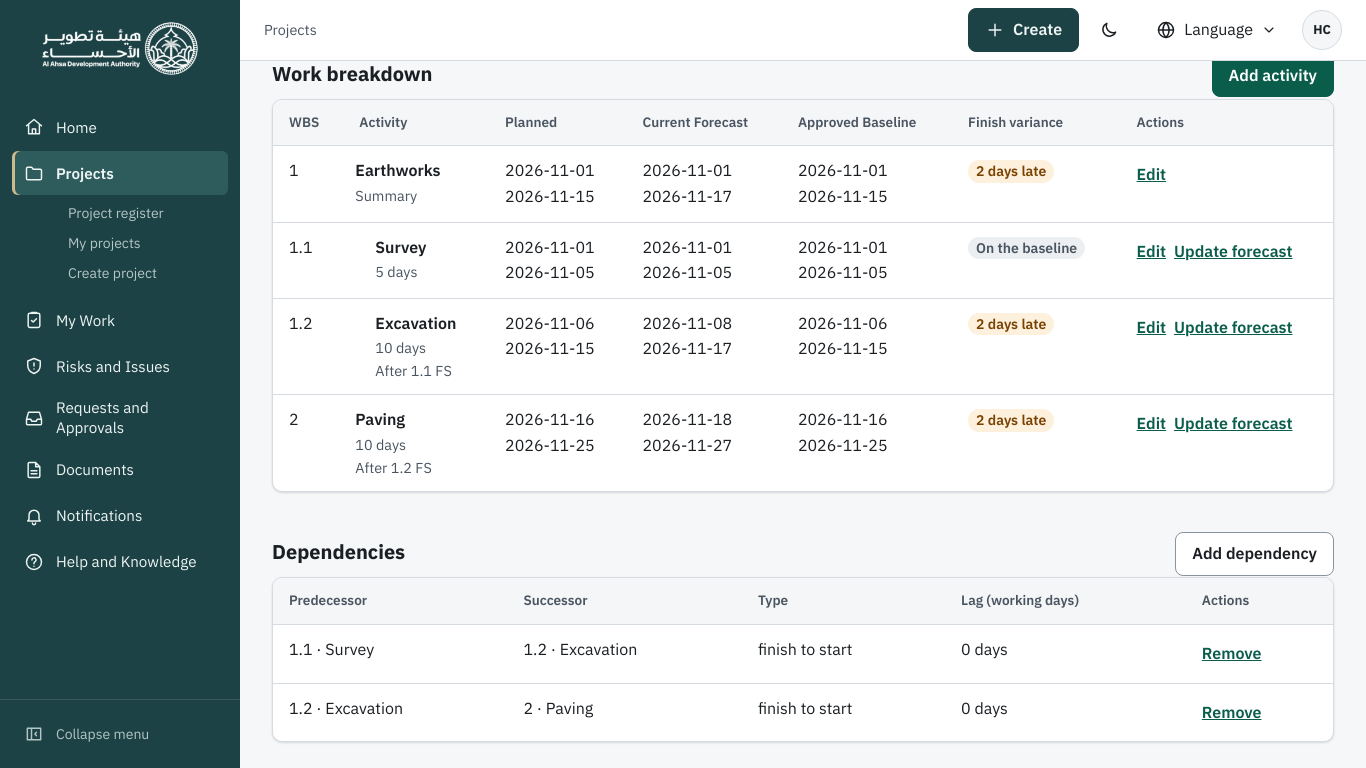
Test: SCR-060 Schedule Manager › a reforecast before the predecessor’s forecast allows is refused on the field and not sent
This screenshot has width=1366, height=768.
(page scrolled)
Click the button "Update forecast" in the row of "2026-11-18" at coordinates (1233, 424), box [1174,407,1292,441]
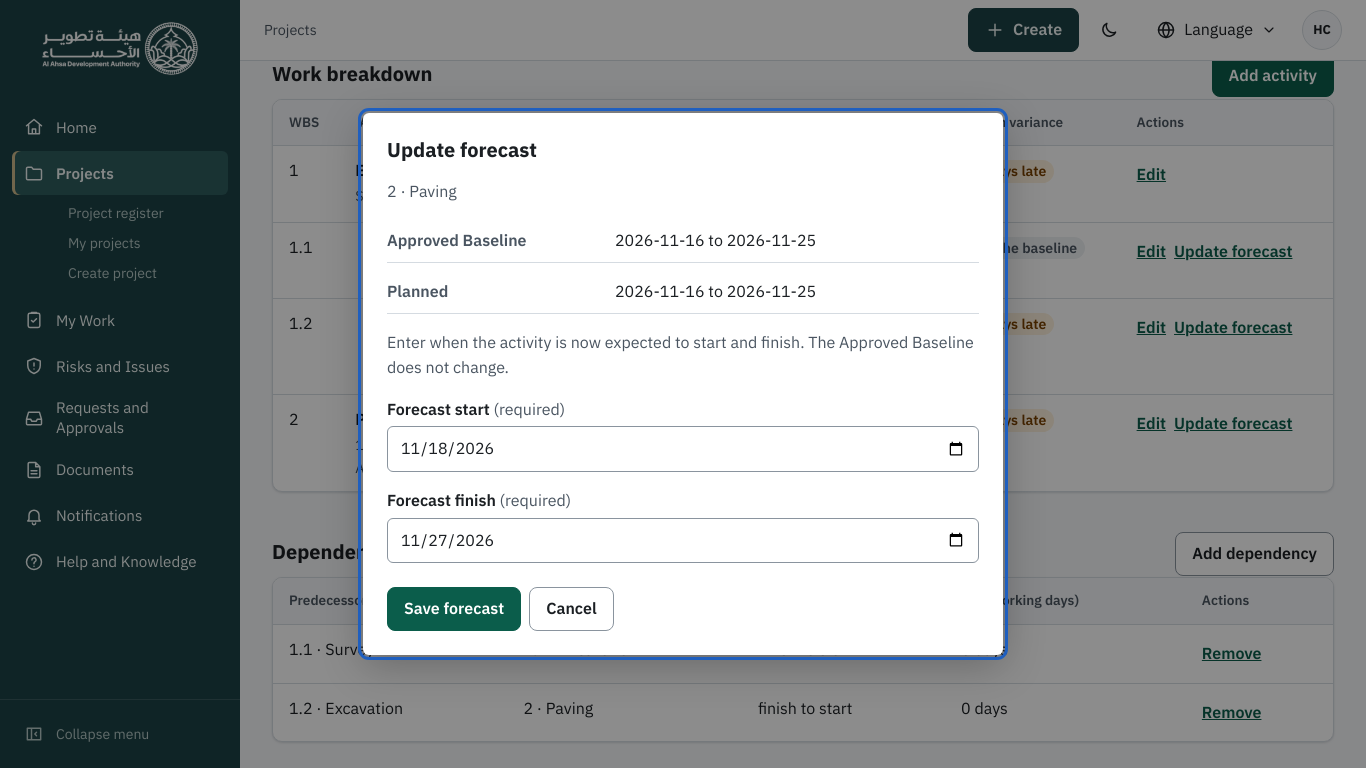
Type "2026-11-15" into the date field labelled "Forecast start (required)" at coordinates (683, 449), box [387,426,979,472]
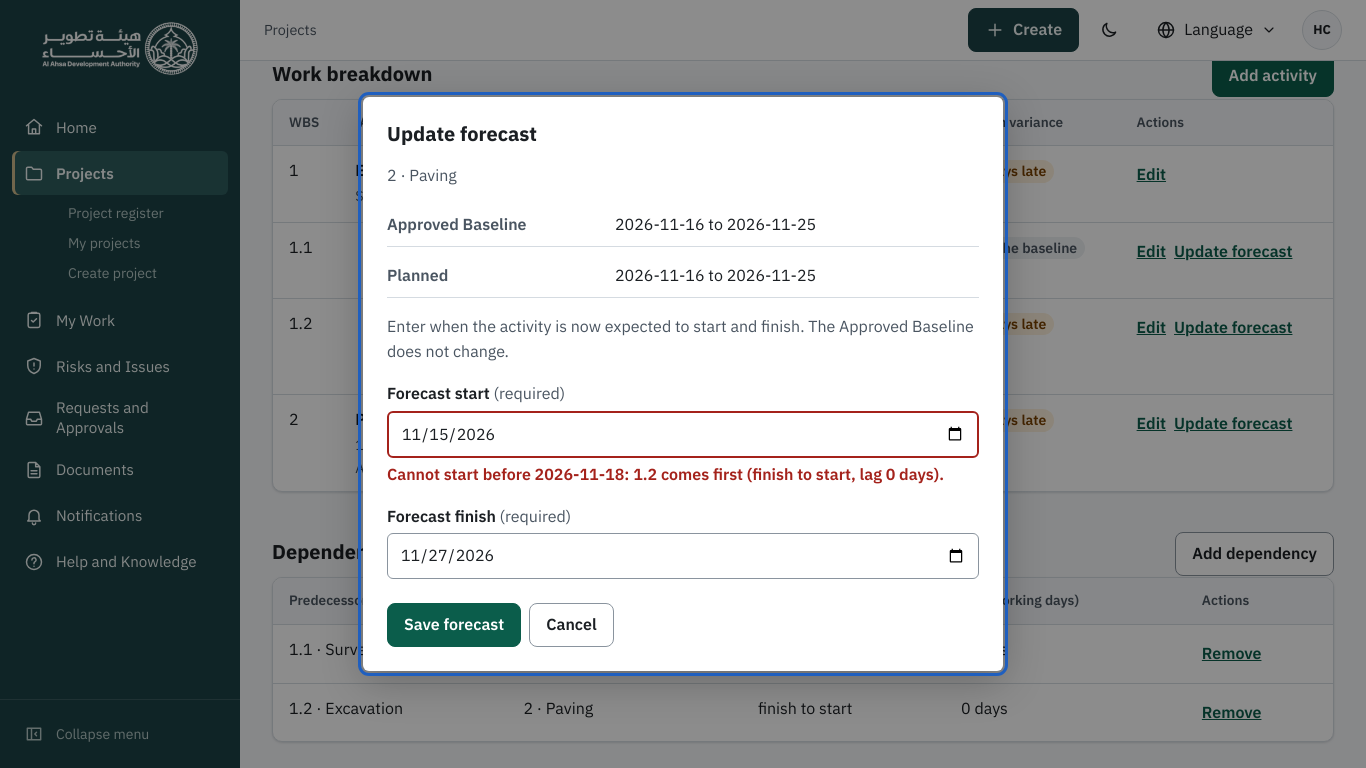
Click the button "Save forecast" at coordinates (454, 625), box [387,603,521,647]
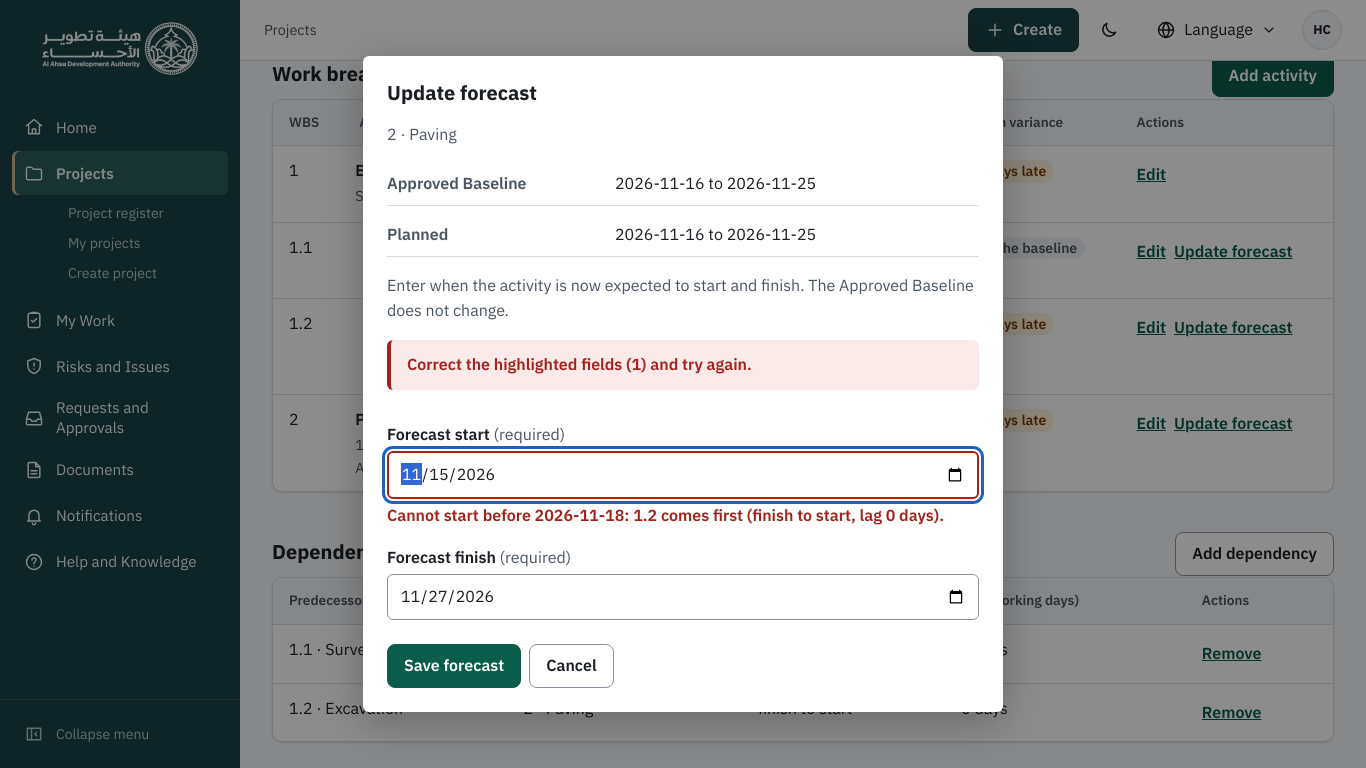
Type "2026-11-20" into the date field labelled "Forecast start (required)" at coordinates (683, 475), box [387,451,979,499]
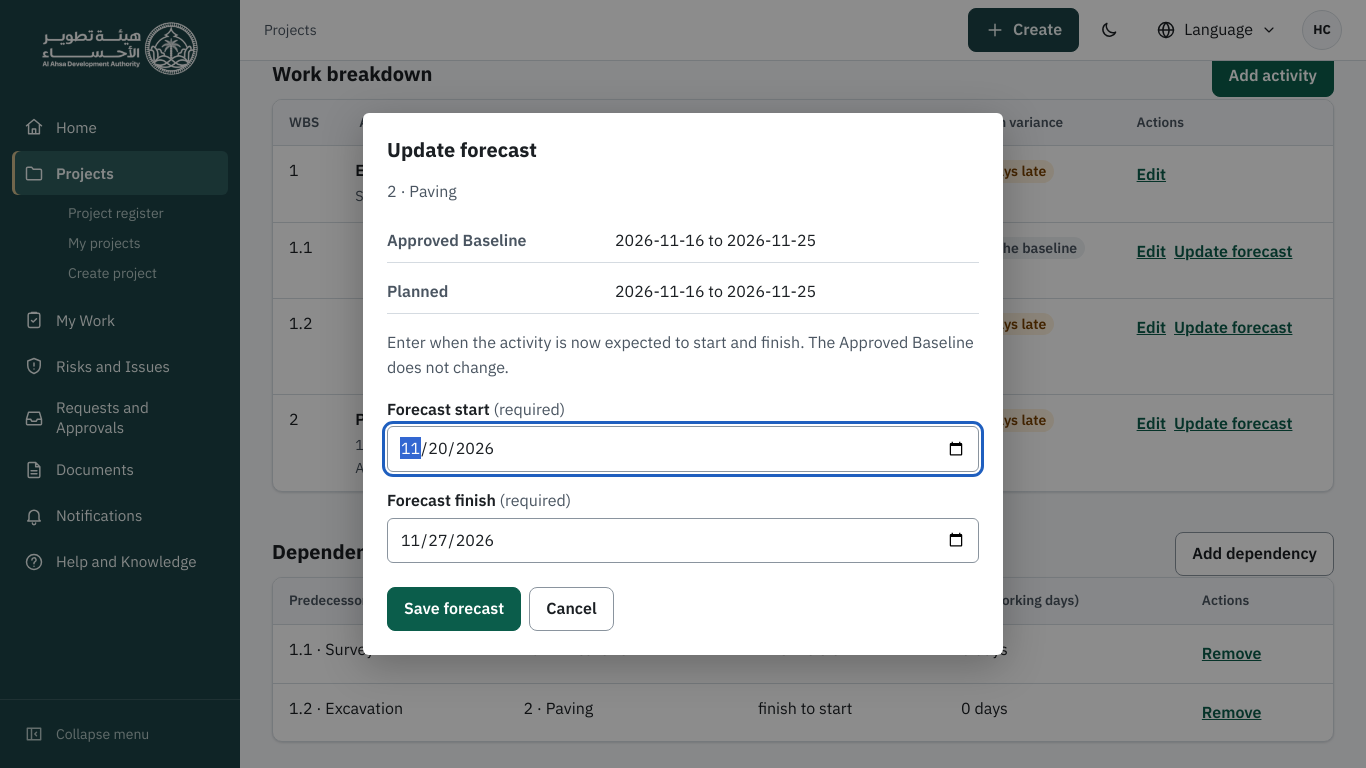
Type "2026-11-29" into the date field labelled "Forecast finish (required)" at coordinates (683, 540), box [387,518,979,563]
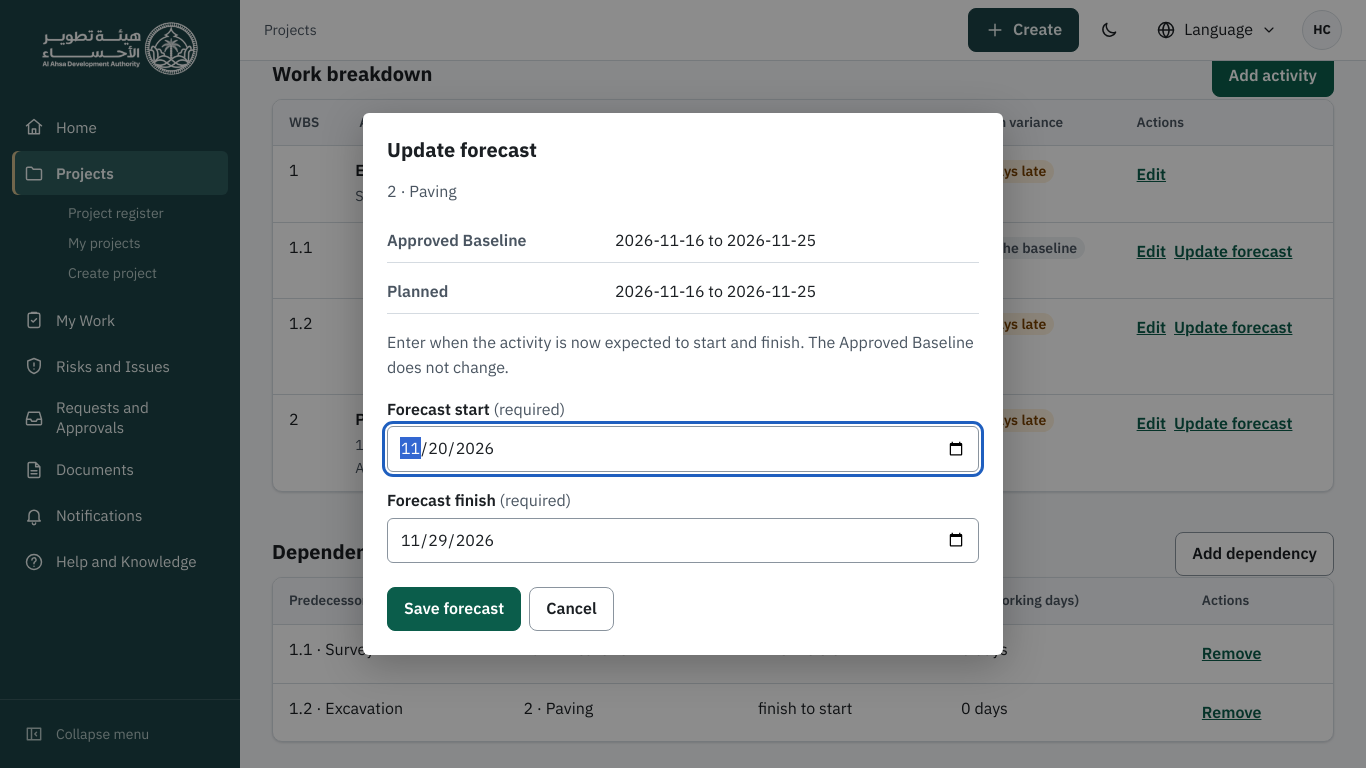
Click the button "Save forecast" at coordinates (454, 609), box [387,587,521,631]
(page scrolled)
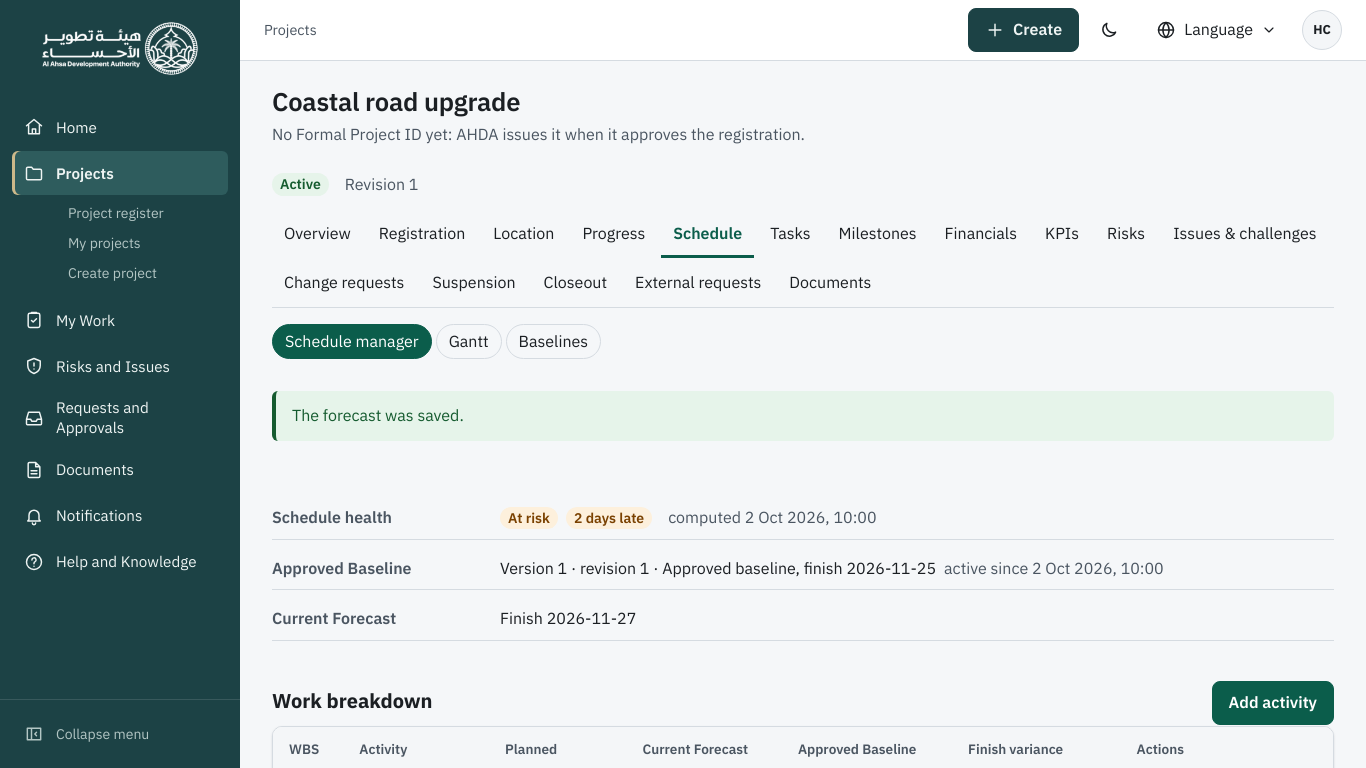
Result: the text "The forecast was saved." is shown at [272,391,1334,441]
